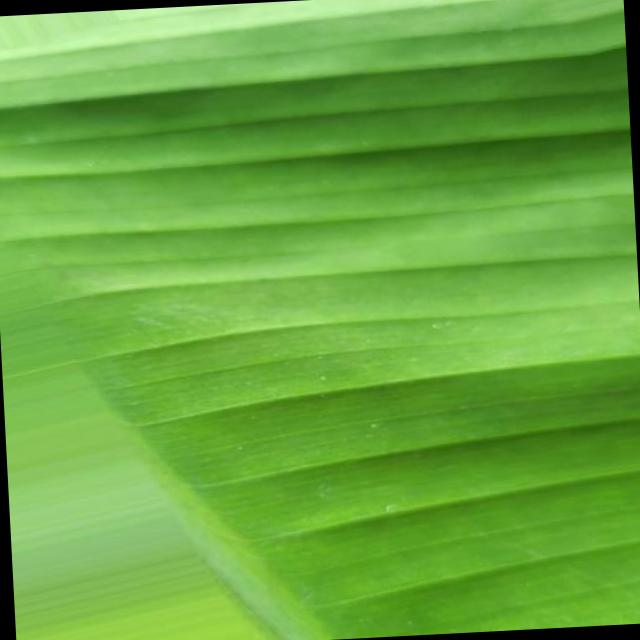Banana_Healthy: (174, 73, 558, 436)
